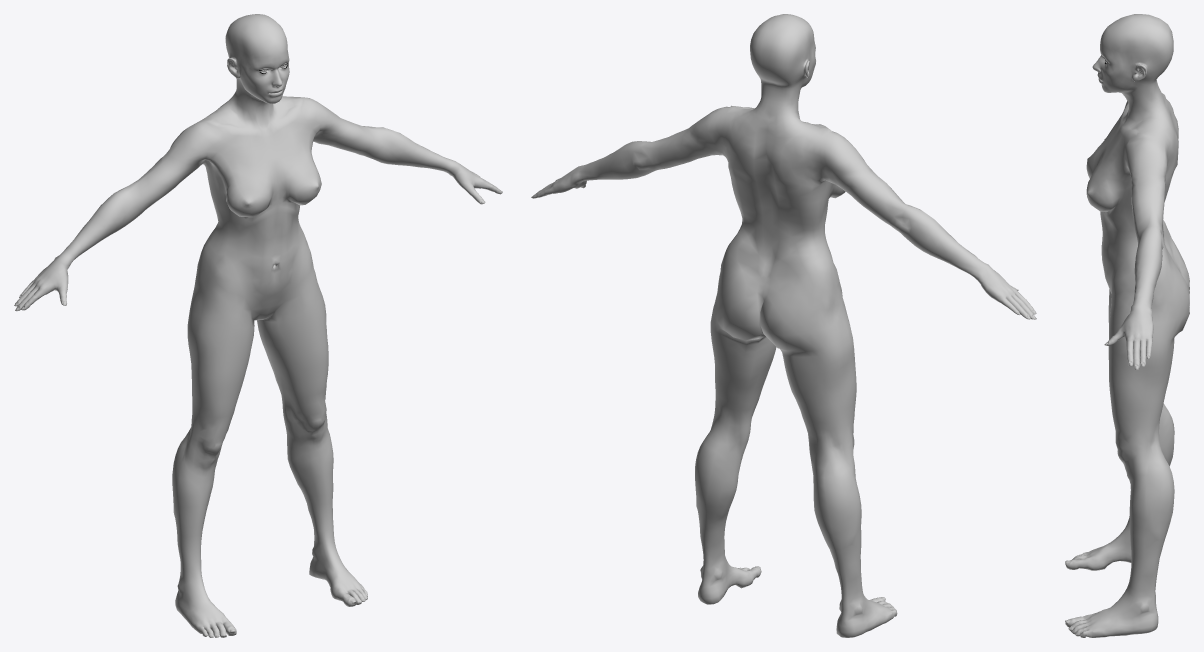
File: modelA_Port.obj
3 renders of one model, left to right at view 1: azimuth 30°, elevation 25°; view 2: azimuth 150°, elevation 25°; view 3: azimuth 270°, elevation 25°, orthographic. The views are drawn at different scales.
Parts seen in each view (by area): view 1: modelA_body_MBLab_human_female; view 2: modelA_body_MBLab_human_female; view 3: modelA_body_MBLab_human_female.
Part boxes in pixels (<box>): modelA_body_MBLab_human_female: <box>14,14,502,637</box>; modelA_body_MBLab_human_female: <box>531,14,1036,637</box>; modelA_body_MBLab_human_female: <box>1065,14,1189,637</box>.
Bounding box in the file's own units: 1.48 × 1.68 × 0.3267.
